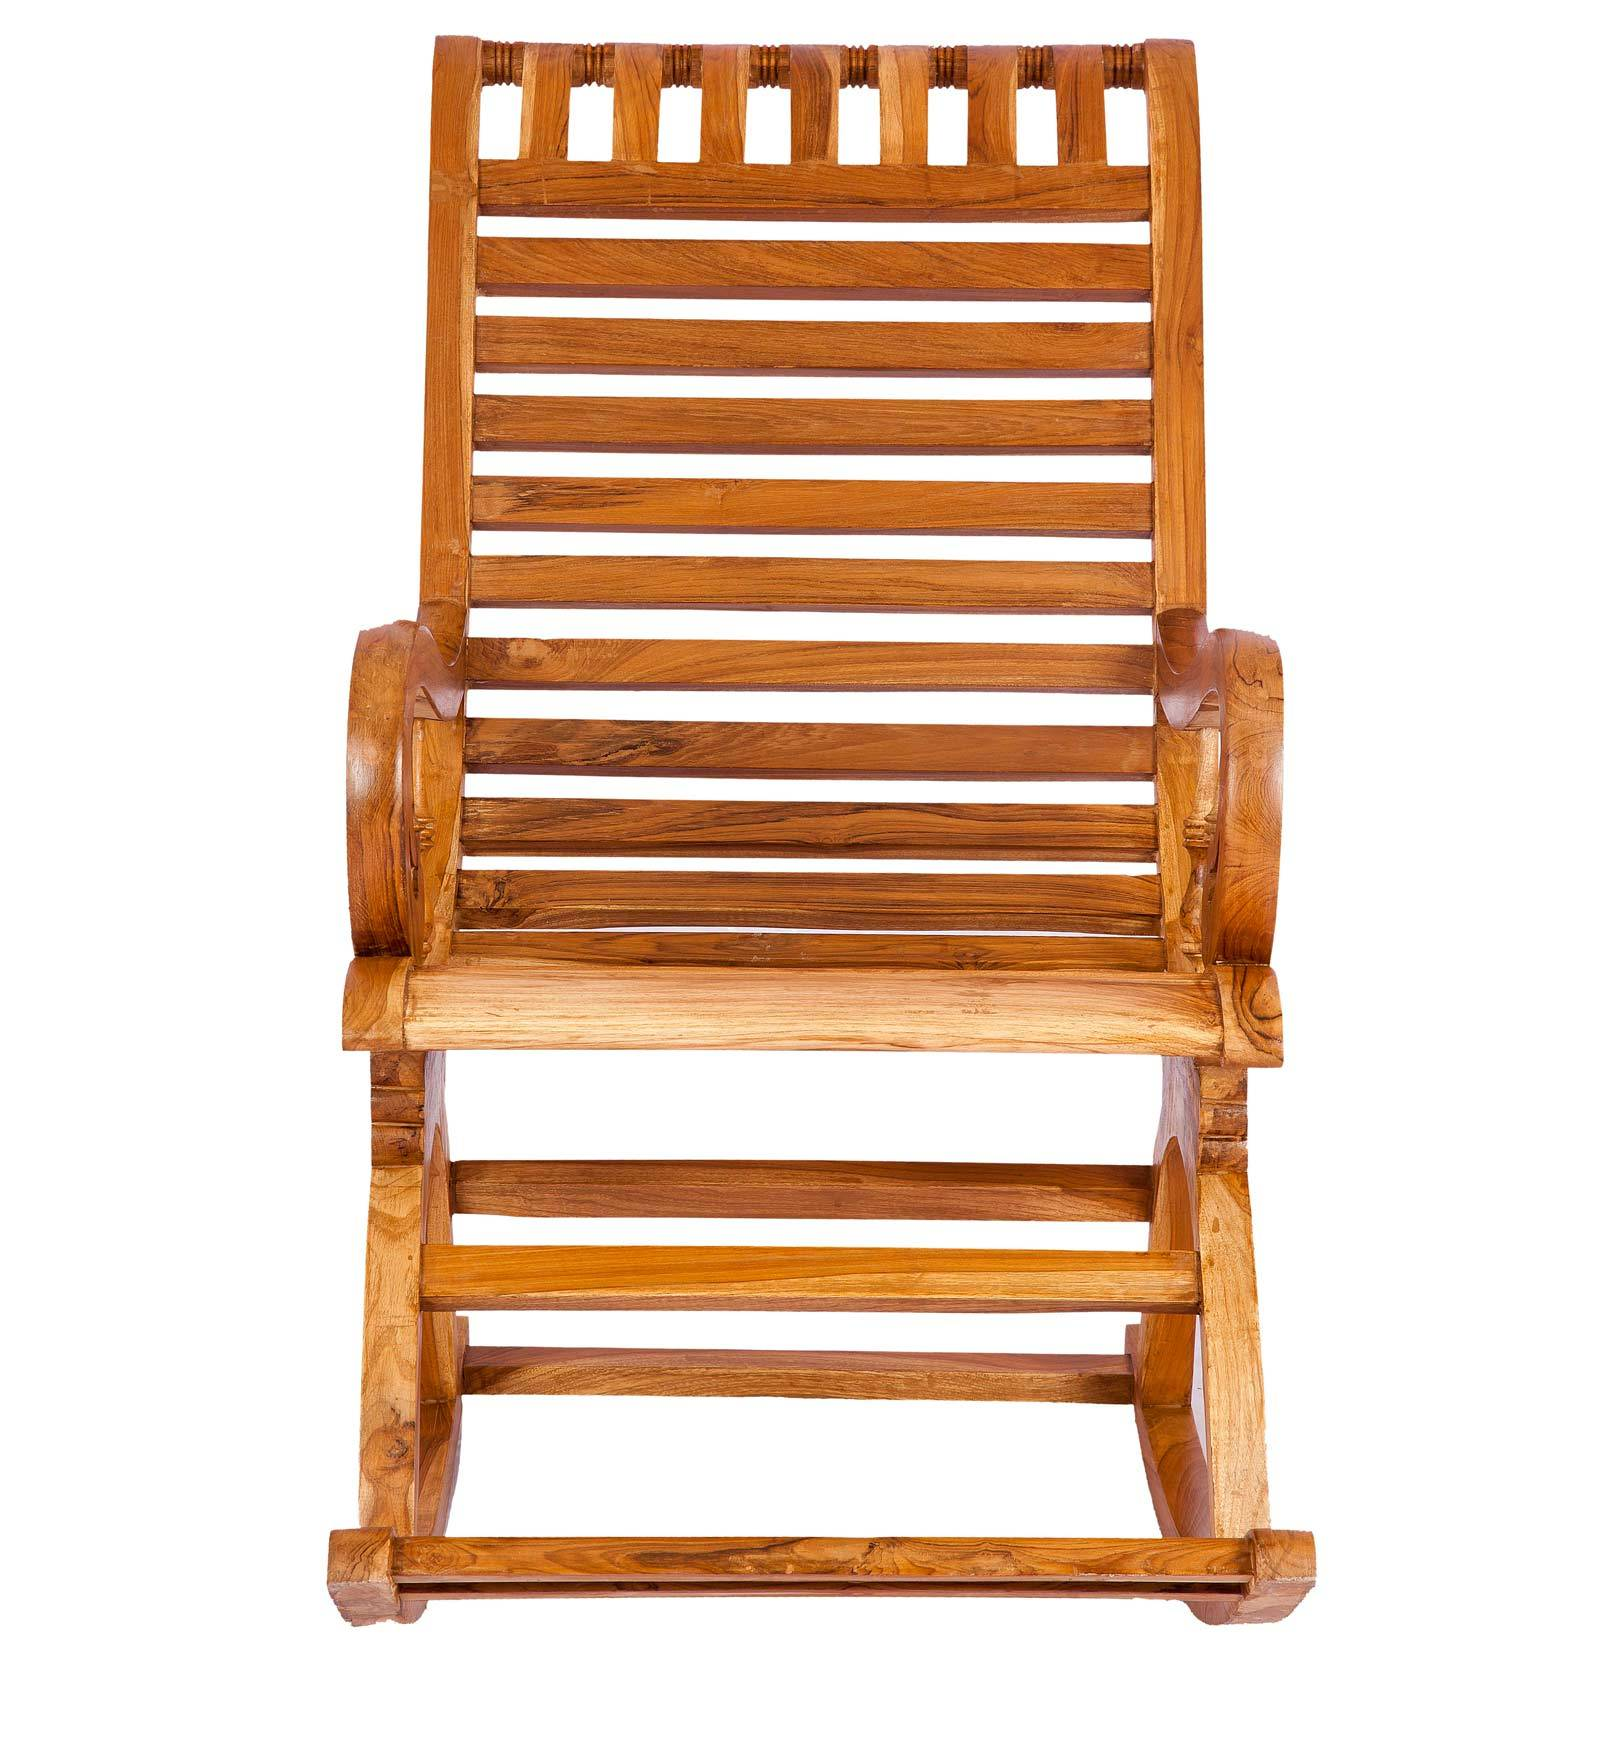Teak Wood Rocking Chair in Light Teak Finish by Karigar: (300, 11, 1401, 1659)
